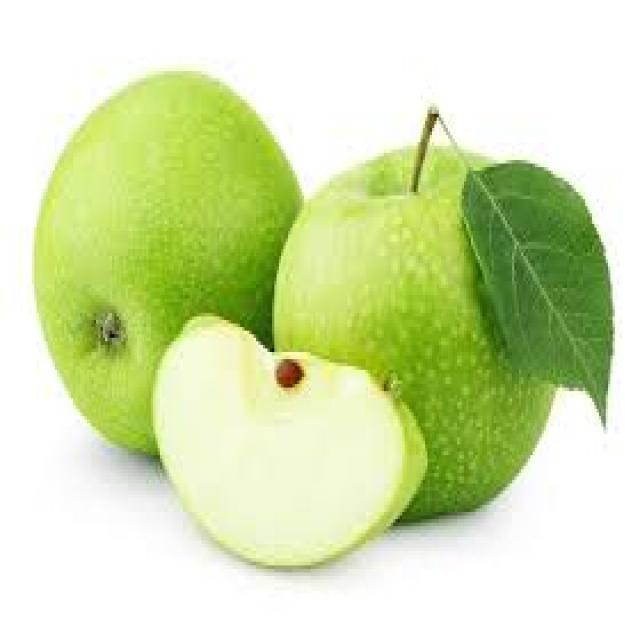organic waste: (267, 145, 567, 522), (27, 68, 302, 458), (148, 310, 428, 572), (460, 160, 610, 430)
